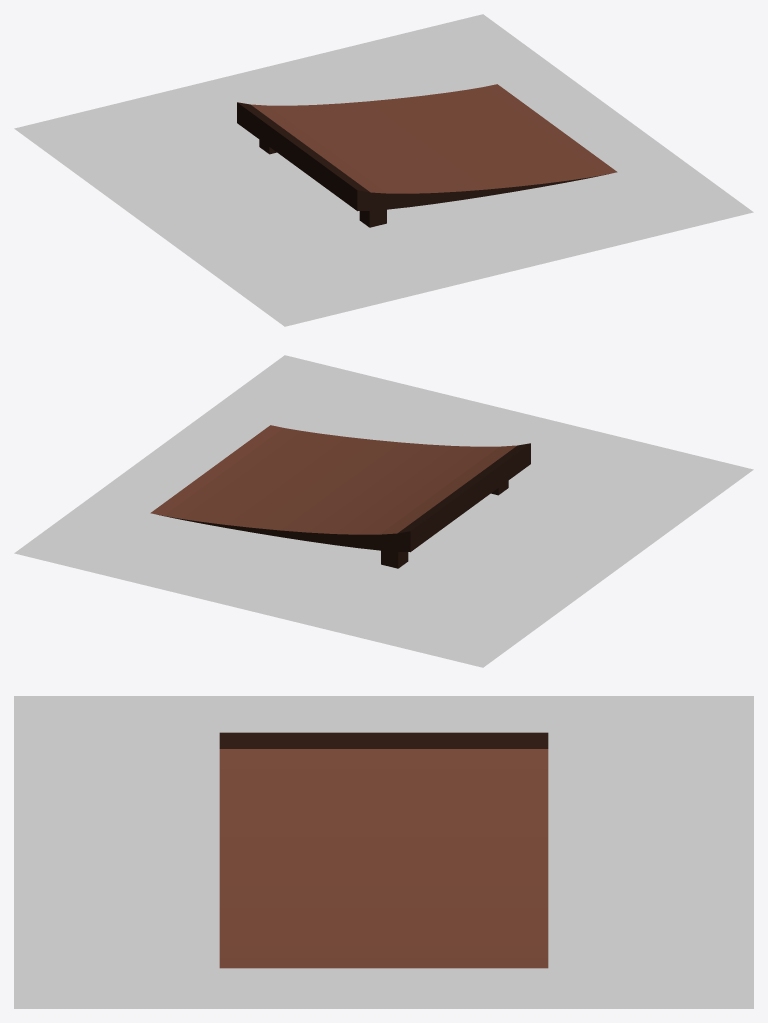
The model's file is ramp.fbx.
3 renders of one model, top to bottom at view 1: azimuth 30°, elevation 25°; view 2: azimuth 150°, elevation 25°; view 3: azimuth 270°, elevation 25°, orthographic. The views are drawn at different scales.
Visible parts, largest first — view 1: Plane, RampRight.001, RampRight; view 2: Plane, RampRight, RampRight.001; view 3: Plane, RampRight, RampRight.001.
Boxes of the visible parts, box(x1,y1,x2,y2) form: Plane: box(14, 14, 753, 326); RampRight.001: box(297, 128, 617, 211); RampRight: box(237, 84, 556, 166); Plane: box(14, 355, 753, 667); RampRight: box(150, 469, 470, 552); RampRight.001: box(211, 425, 530, 507); Plane: box(14, 696, 753, 1008); RampRight: box(384, 732, 548, 968); RampRight.001: box(219, 732, 383, 968).
Bounding box in the file's own units: 540 × 50 × 540.
